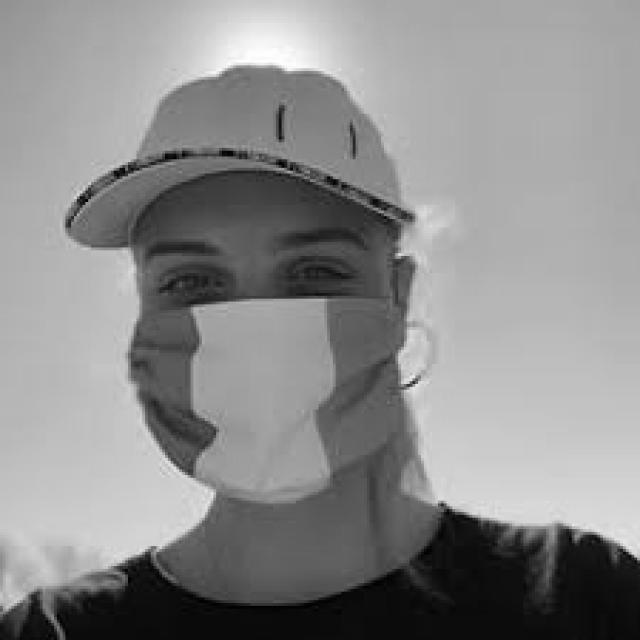with_mask: (125, 256, 424, 503)
